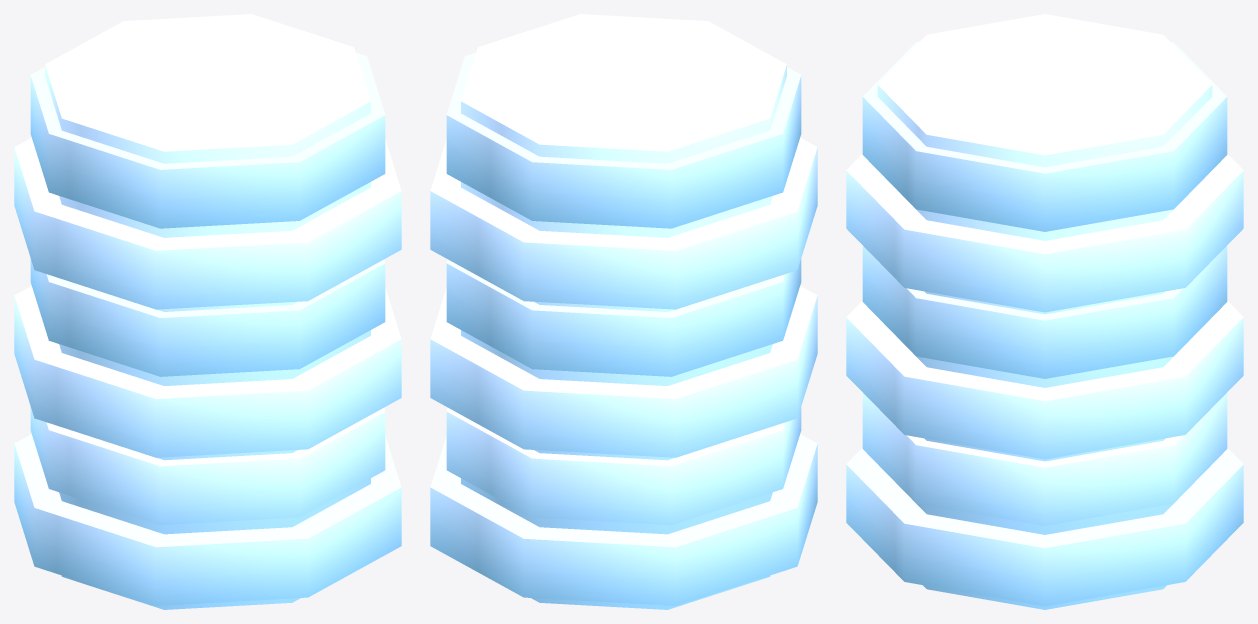
The model's file is steel_grip_026.glb.
3 views of the same model, side by side, from view 1: azimuth 30°, elevation 25°; view 2: azimuth 150°, elevation 25°; view 3: azimuth 270°, elevation 25° (orthographic).
Visible parts, largest first — view 1: steel_grip_026; view 2: steel_grip_026; view 3: steel_grip_026.
Part boxes in pixels (x1,y1,x2,y2): steel_grip_026: (14, 14, 401, 609); steel_grip_026: (430, 14, 817, 609); steel_grip_026: (846, 14, 1243, 609).
Size of the model in its own units: 2.38 by 3 by 2.38.
Materials: 1 (1 with a texture image).
